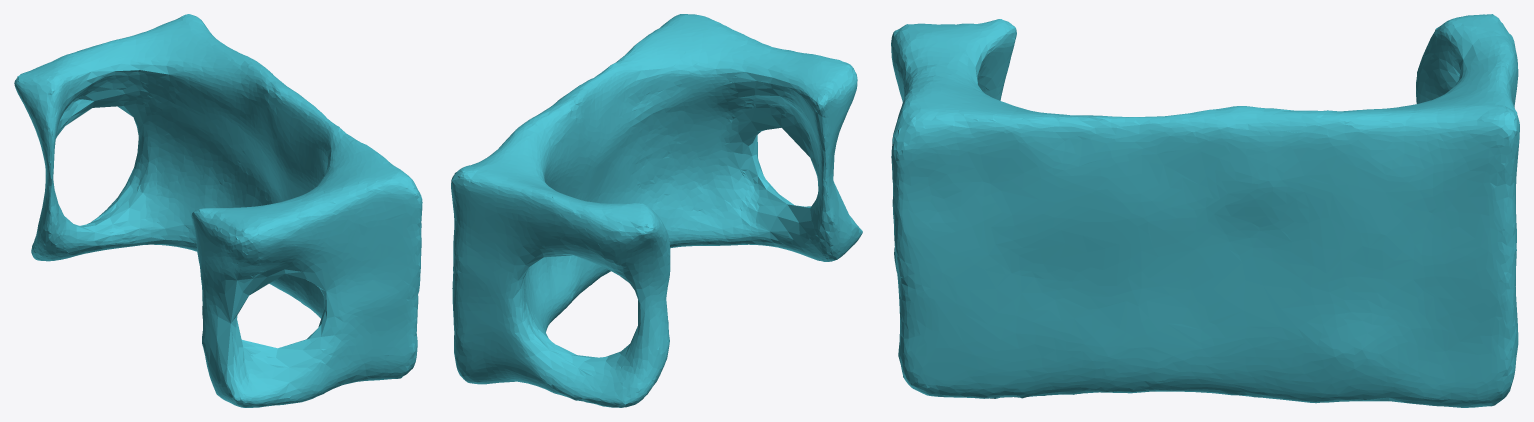
3 views of the same model, side by side, from view 1: azimuth 30°, elevation 25°; view 2: azimuth 150°, elevation 25°; view 3: azimuth 270°, elevation 25° (orthographic). The views are drawn at different scales.
Visible parts, largest first — view 1: Renderer Node; view 2: Renderer Node; view 3: Renderer Node.
Boxes of the visible parts, x1=… form: Renderer Node: x1=14, y1=14, x2=422, y2=407; Renderer Node: x1=451, y1=14, x2=862, y2=407; Renderer Node: x1=891, y1=14, x2=1519, y2=407.
Size of the model in its own units: 0.3673 by 0.3816 by 0.733.
Materials: 1 (1 with a texture image).
